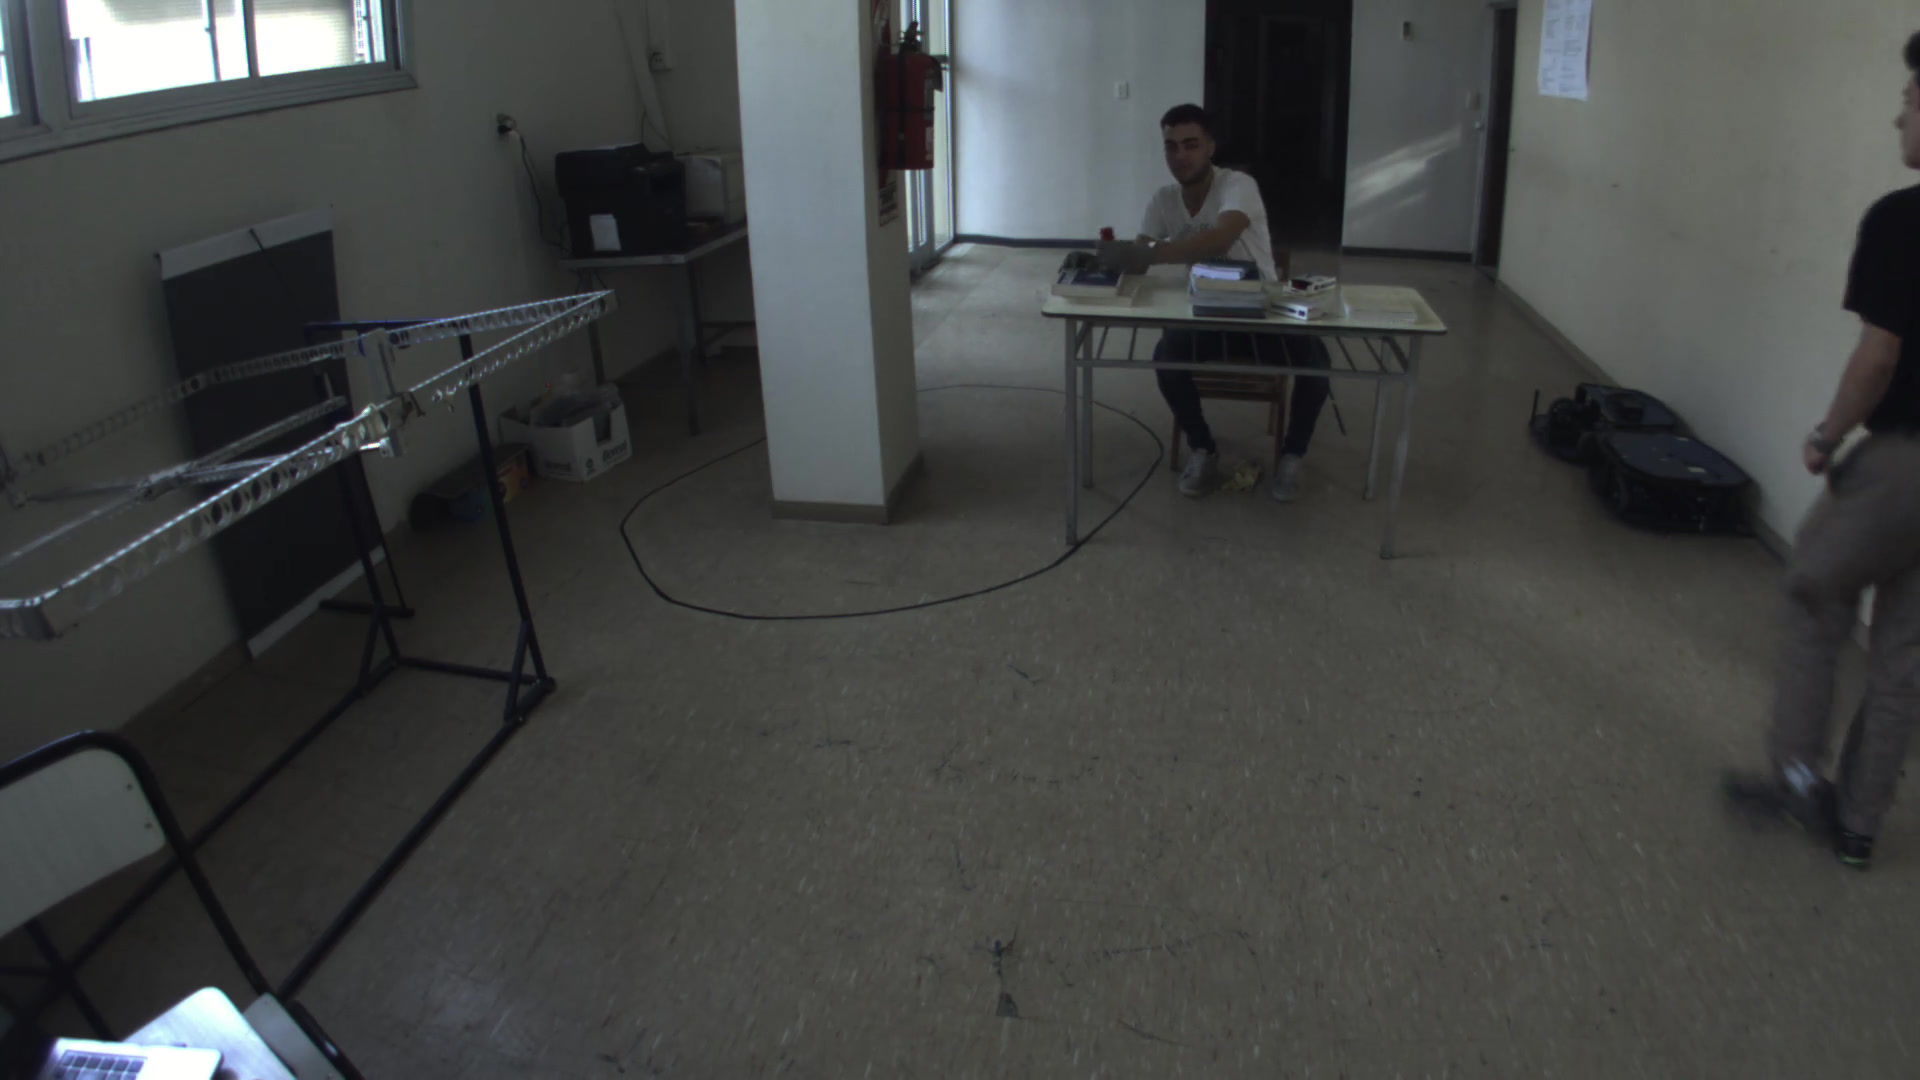hand: (1092, 233, 1159, 280)
